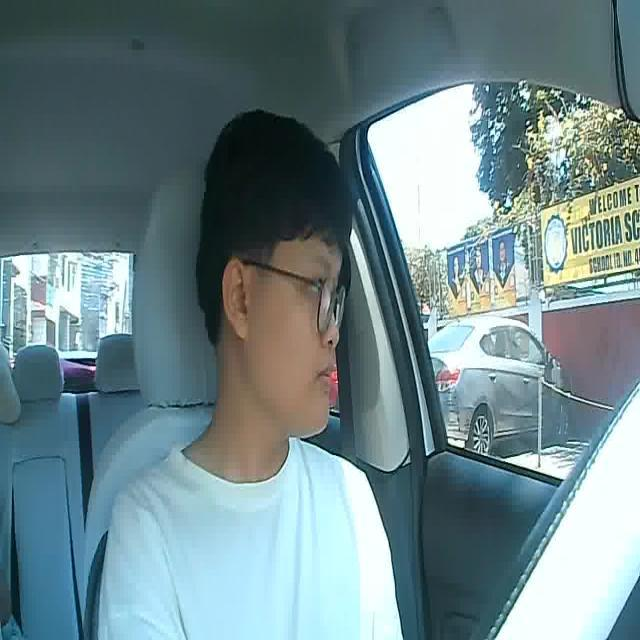Eye-Open: (305, 266, 328, 302)
Inattentive: (194, 106, 357, 439)
Normal: (317, 356, 336, 390)
